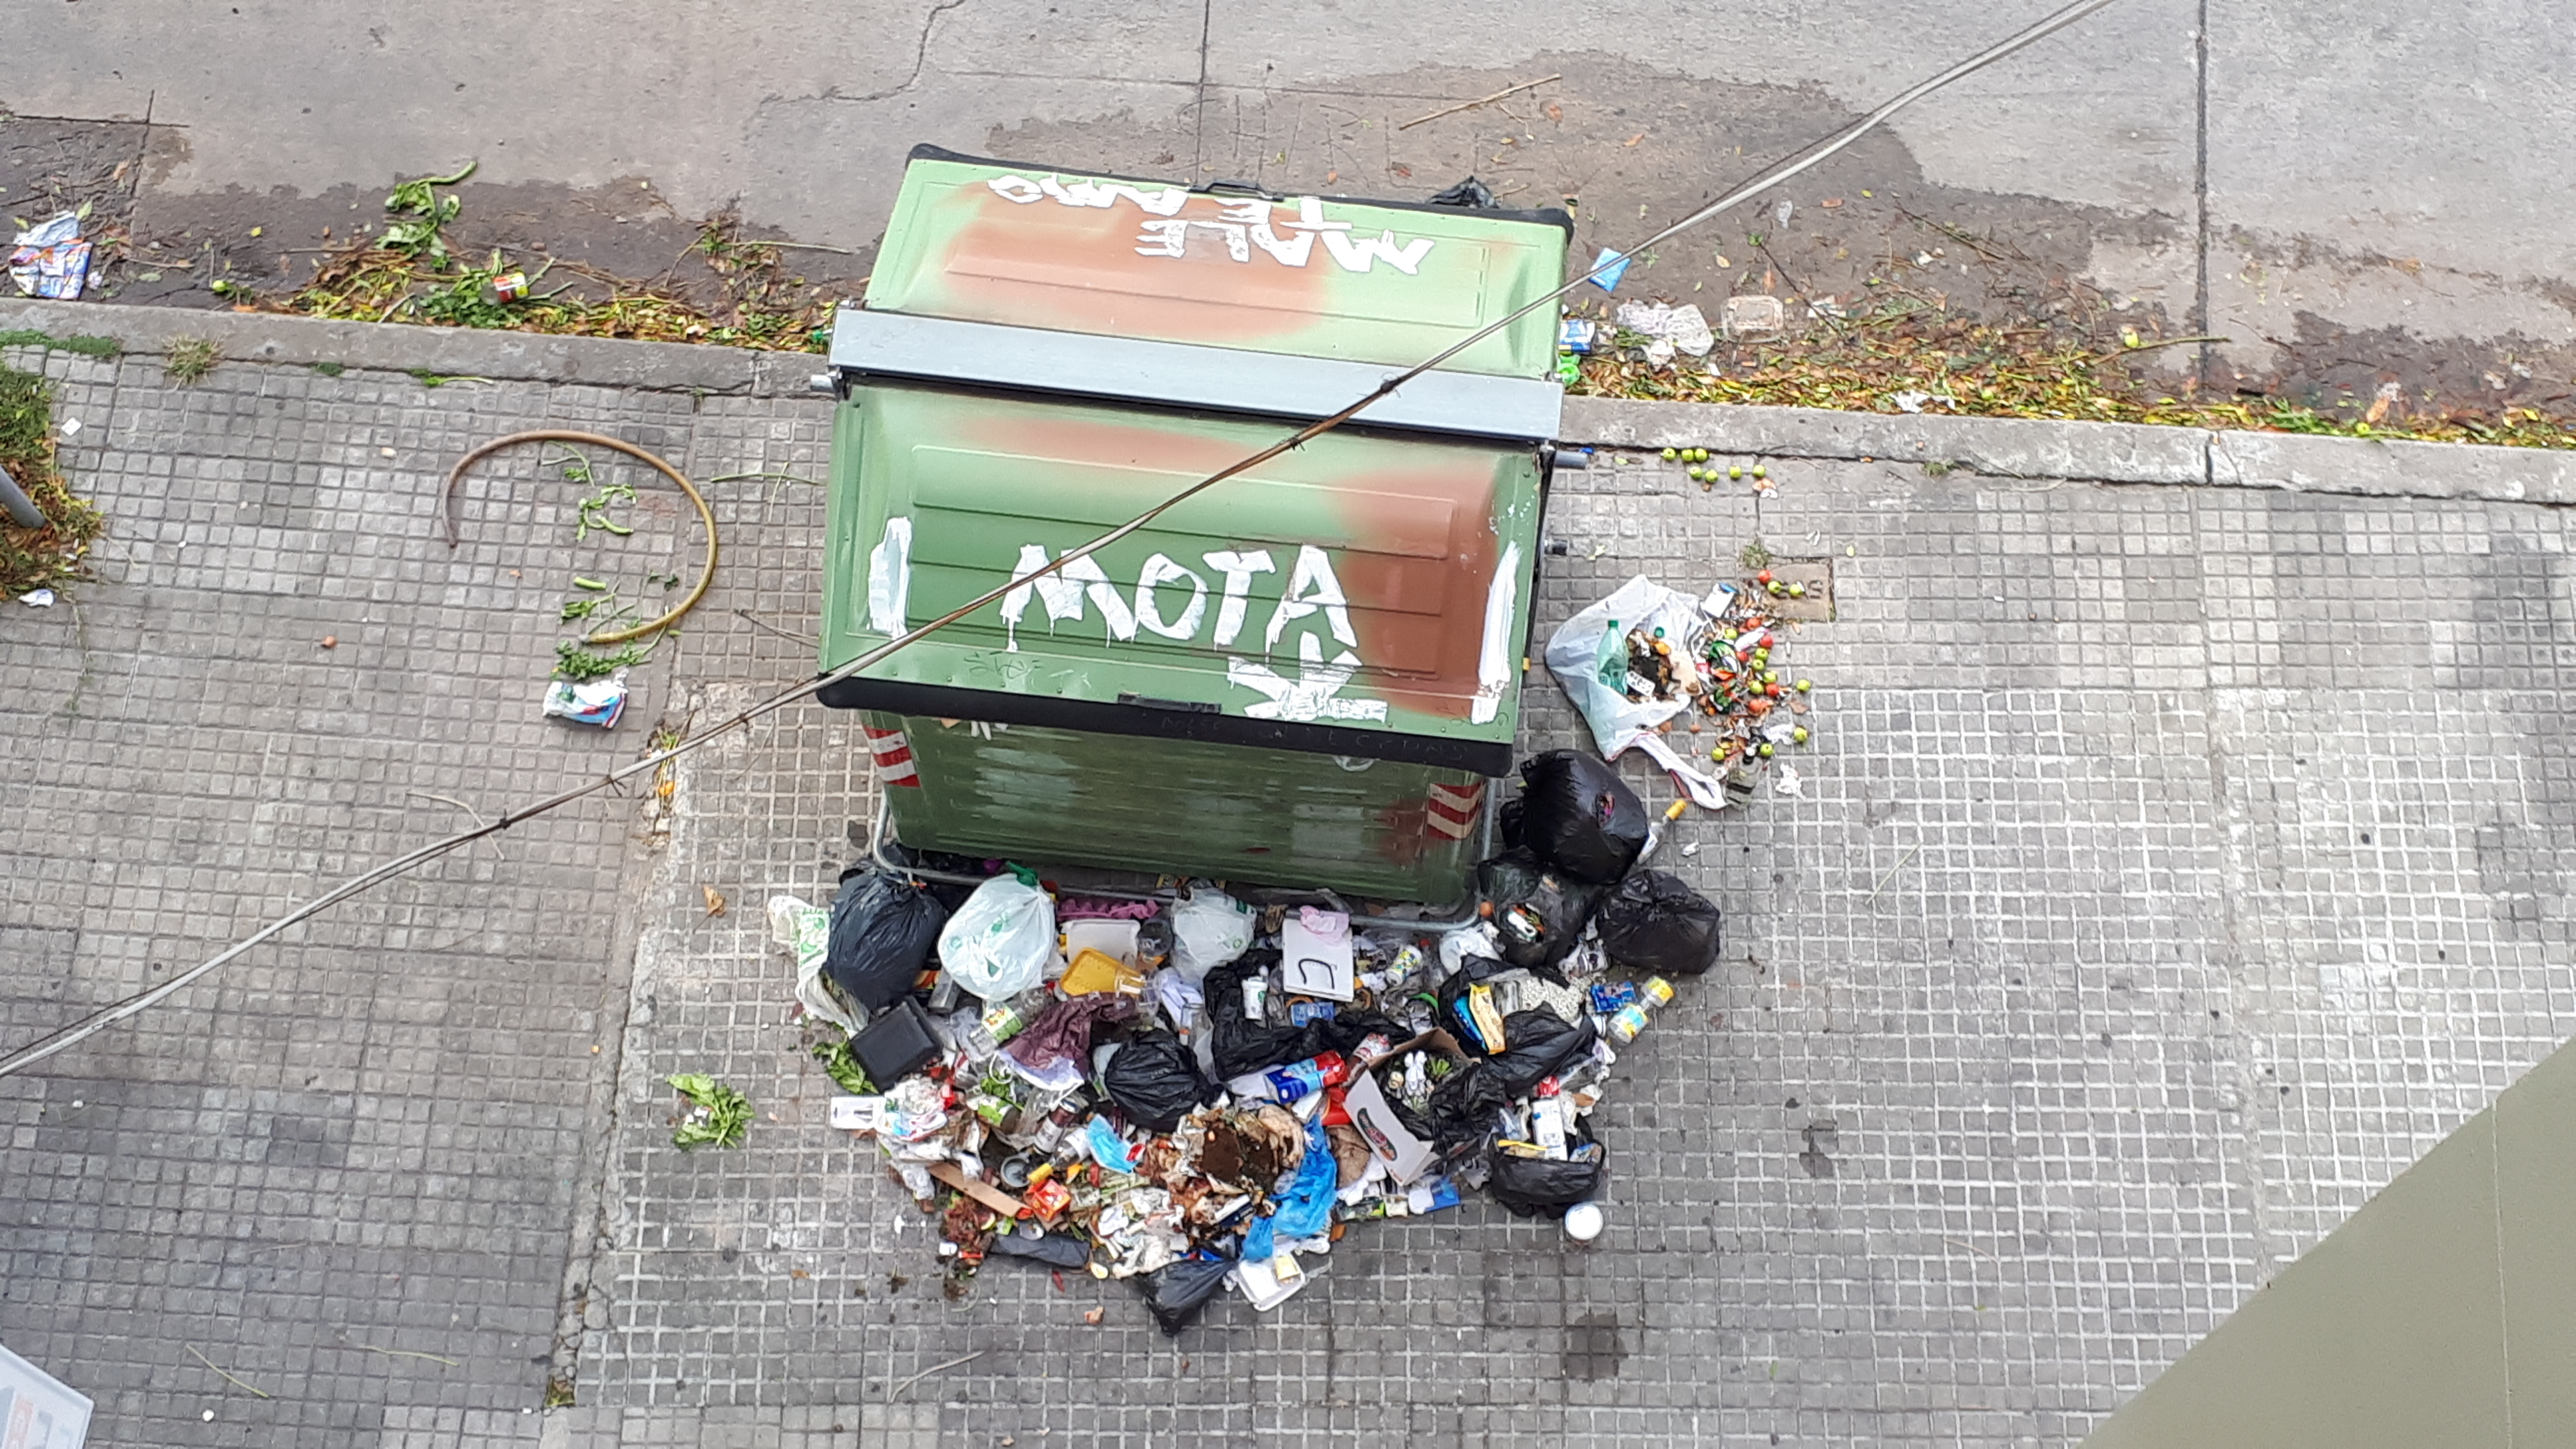container: (775, 124, 1560, 915)
